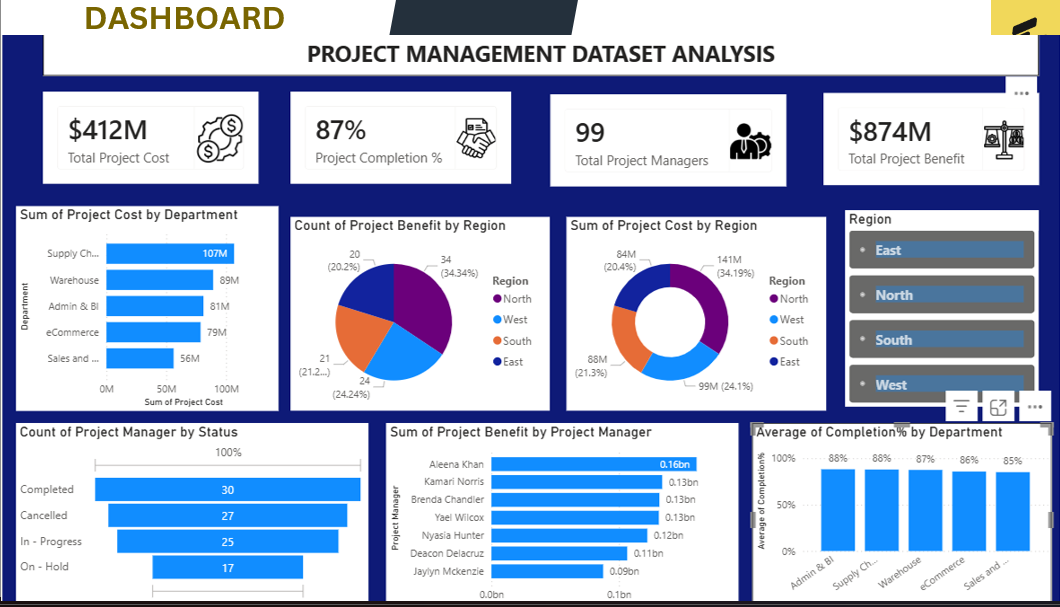

Layout of this report page (visuals, bound fields, positions):
{"tool":"powerbi","page":{"name":"Page 1","canvas":[1280,720],"ordinal":0},"visuals":[{"type":"cardVisual","fields":{"Data":["Table.Total Project Cost"]},"box":[661.4,81.3,285.4,111.5],"z":0},{"type":"cardVisual","fields":{"Data":["Table.Total Project"]},"box":[49.1,77.5,260.8,111.5],"z":1000},{"type":"cardVisual","fields":{"Data":["Table.Highest project completion %"]},"box":[333.4,78.1,305.8,110.6],"z":2000},{"type":"cardVisual","fields":{"Data":["Table.Highest Project benefit"]},"box":[992.1,79.4,260.8,111.5],"z":3000},{"type":"barChart","fields":{"Category":["Project Management Dataset.Department"],"Y":["Sum(Project Management Dataset. Project Cost )"]},"box":[16.3,216.3,317.2,247.2],"z":4000},{"type":"funnel","fields":{"Category":["Project Management Dataset.Status"],"Y":["CountNonNull(Project Management Dataset.Project Manager)"]},"box":[16.3,478.2,426.2,234.2],"z":5000},{"type":"pieChart","fields":{"Category":["Project Management Dataset.Region"],"Y":["CountNonNull(Project Management Dataset.Project Manager)"]},"box":[348.1,229.3,313,234.2],"z":6000},{"type":"donutChart","fields":{"Category":["Project Management Dataset.Region"],"Y":["Sum(Project Management Dataset. Project Cost )"]},"box":[681.5,229.3,313.9,234.2],"z":7000},{"type":"columnChart","fields":{"Category":["Project Management Dataset.Department"],"Y":["Avg(Project Management Dataset.Completion%)"]},"box":[470.6,478.1,362.8,234.3],"z":8000},{"type":"clusteredBarChart","fields":{"Category":["Project Management Dataset.Project Manager"],"Y":["Sum(Project Management Dataset. Project Benefit )"]},"box":[852.3,485.7,427.1,234.3],"z":9000},{"type":"textbox","box":[49.1,7.6,1203.8,51],"z":10000},{"type":"slicer","fields":{"Values":["Project Management Dataset.Region"]},"box":[1008.5,229.3,257,234.2],"z":11000}]}

Visuals, with their boxes in screenshot pixels (x1, y1, x2, y2), scaled from the page's 1280x720 canvas onto the 1060x607 screenshot:
cardVisual - Table.Total Project Cost: rect(548, 69, 784, 163)
cardVisual - Table.Total Project: rect(41, 65, 257, 159)
cardVisual - Table.Highest project completion %: rect(276, 66, 529, 159)
cardVisual - Table.Highest Project benefit: rect(822, 67, 1038, 161)
barChart - Project Management Dataset.Department x Sum(Project Management Dataset. Project Cost ): rect(13, 182, 276, 391)
funnel - Project Management Dataset.Status x CountNonNull(Project Management Dataset.Project Manager): rect(13, 403, 366, 601)
pieChart - Project Management Dataset.Region x CountNonNull(Project Management Dataset.Project Manager): rect(288, 193, 547, 391)
donutChart - Project Management Dataset.Region x Sum(Project Management Dataset. Project Cost ): rect(564, 193, 824, 391)
columnChart - Project Management Dataset.Department x Avg(Project Management Dataset.Completion%): rect(390, 403, 690, 601)
clusteredBarChart - Project Management Dataset.Project Manager x Sum(Project Management Dataset. Project Benefit ): rect(706, 409, 1059, 606)
textbox: rect(41, 6, 1038, 49)
slicer - Project Management Dataset.Region: rect(835, 193, 1048, 391)
